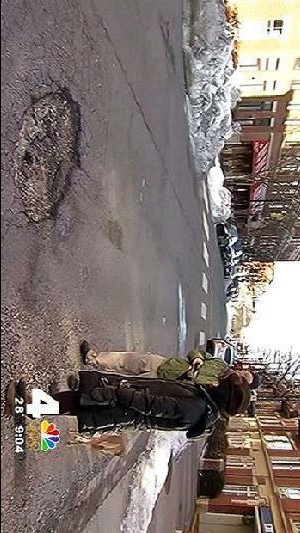pothole: (14, 84, 86, 226)
